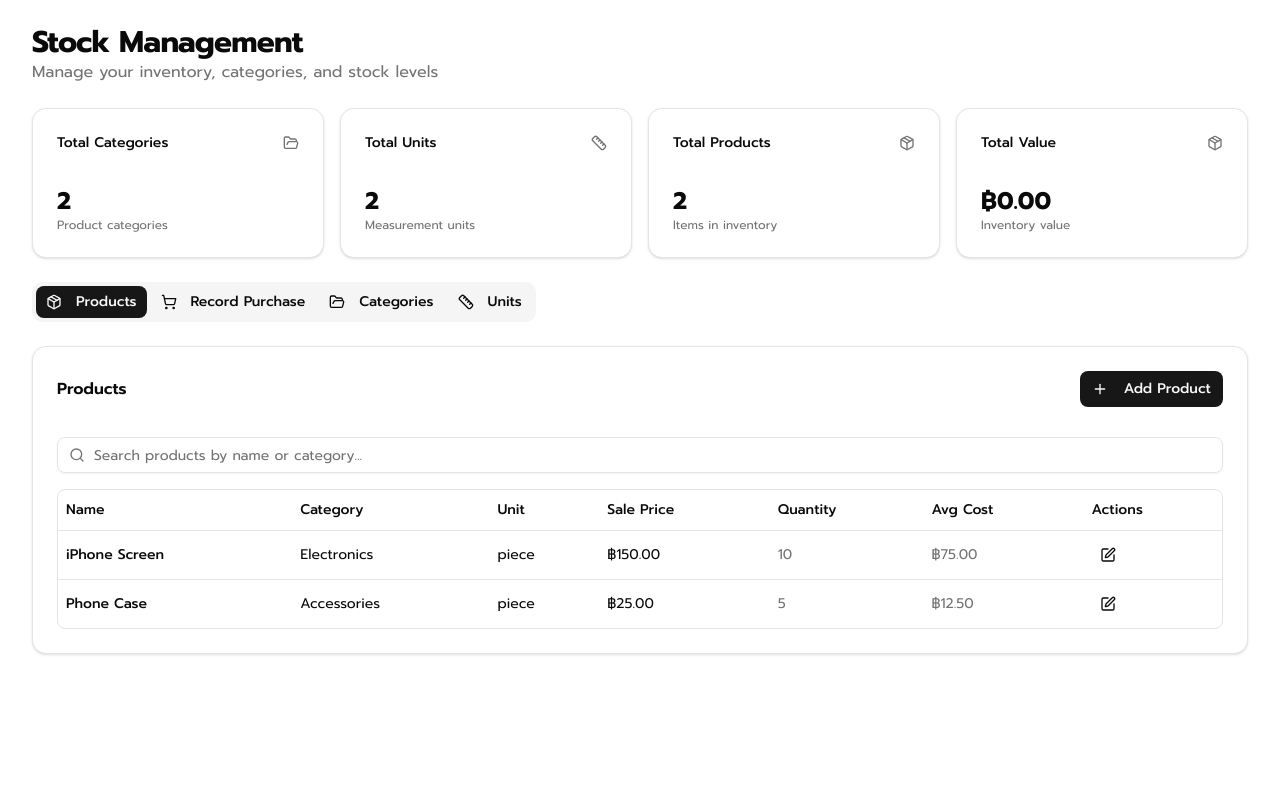
Test: StockPage - Purchase Recording › shows empty state when no purchase history exists
The image size is (1280, 800).
Click the button "Record Purchase". click: (233, 302)
box: [150,286,315,318]
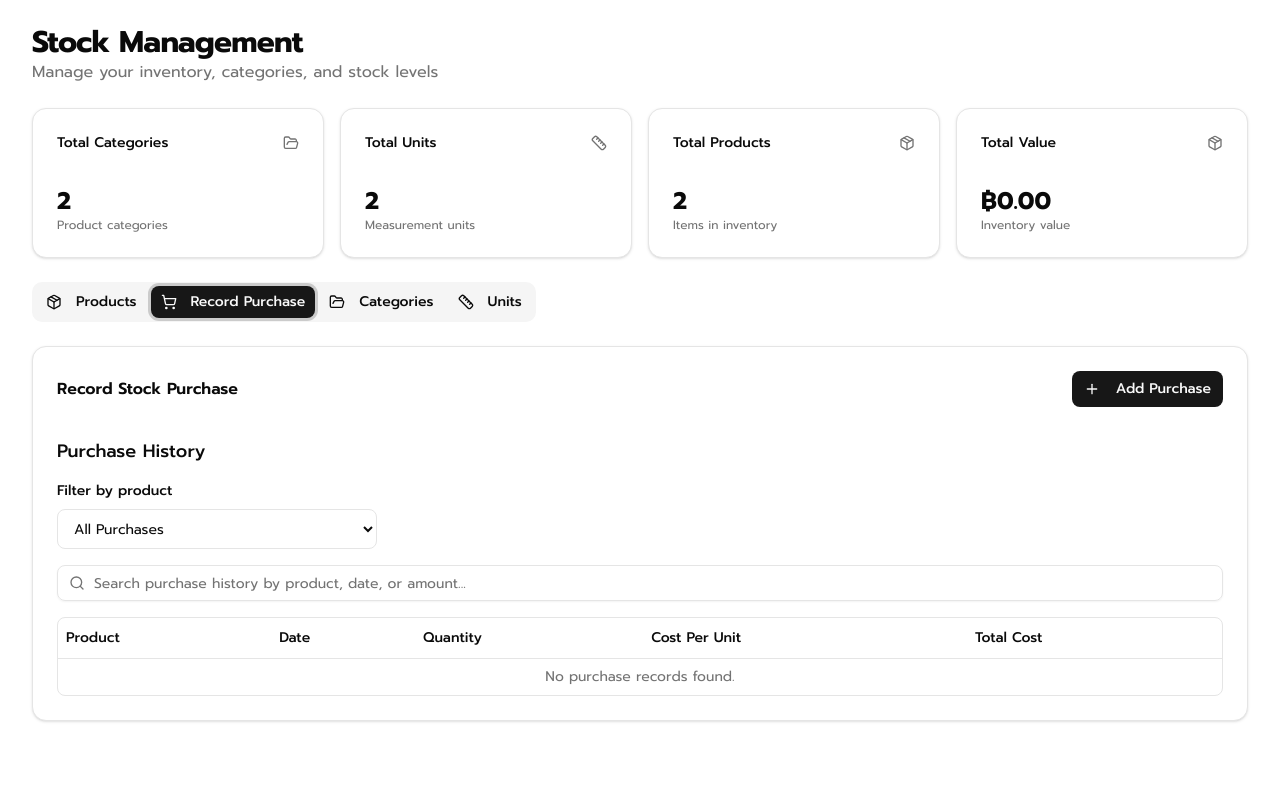
// Select product for history
Select "iPhone Screen (piece)" in the dropdown showing "All Purchases". click: (217, 529)
box: [57,509,377,549]
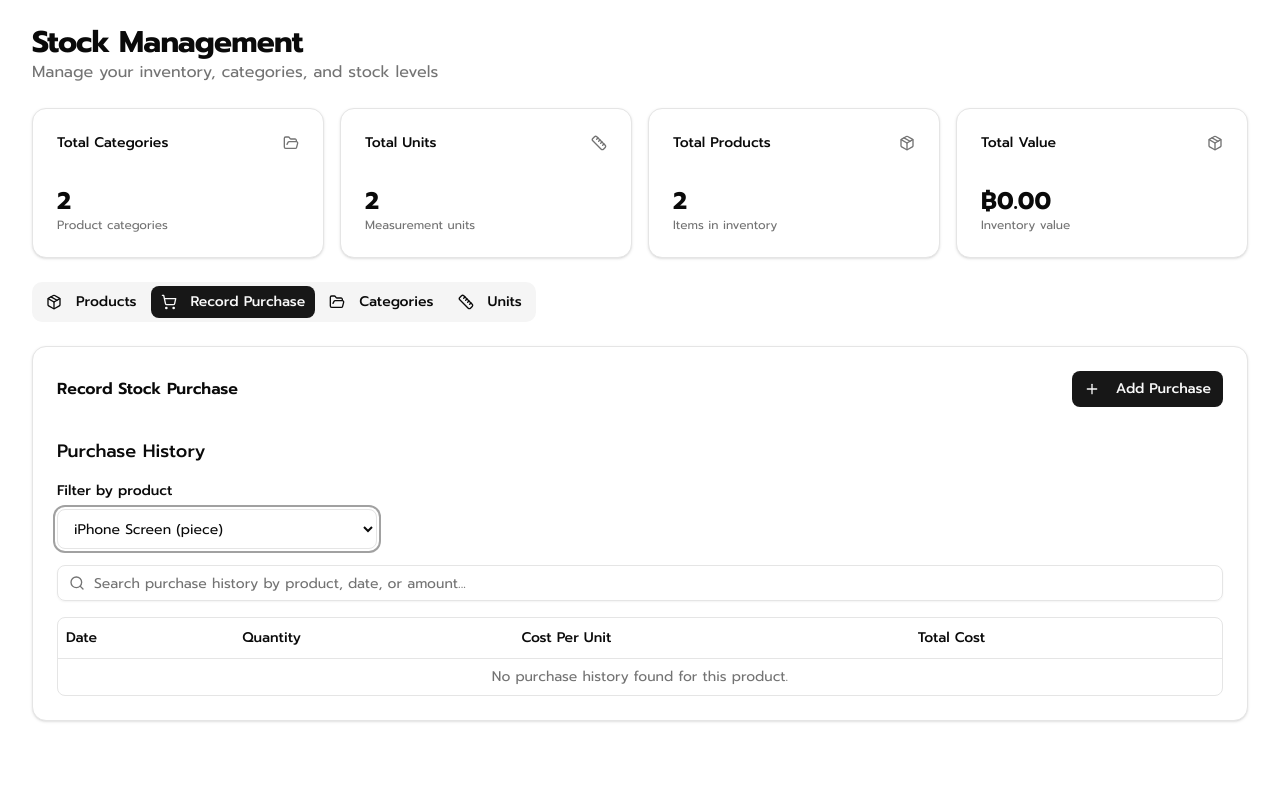
Now the text "No purchase history found for this product." is shown, box [58,658,1222,694]
